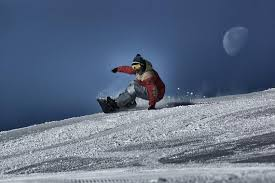snowboarder: (83, 48, 185, 121)
